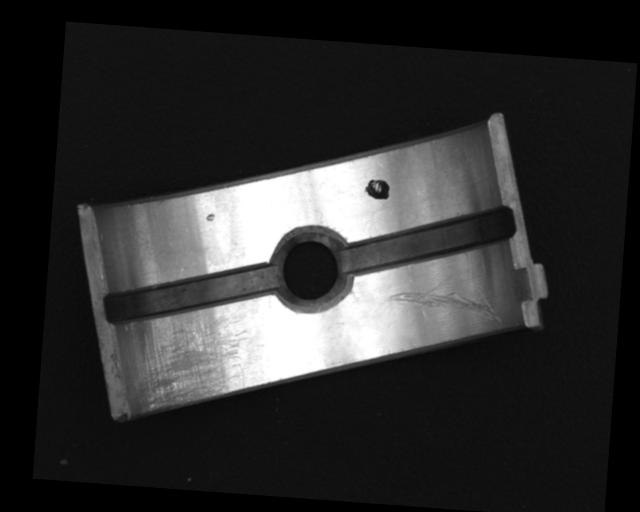blot: (363, 177, 391, 201)
bruise: (204, 213, 217, 221)
gap: (340, 191, 518, 287), (100, 252, 278, 335)
hole: (267, 227, 354, 315)
nick: (383, 267, 506, 321)
scratch: (133, 306, 251, 417)
